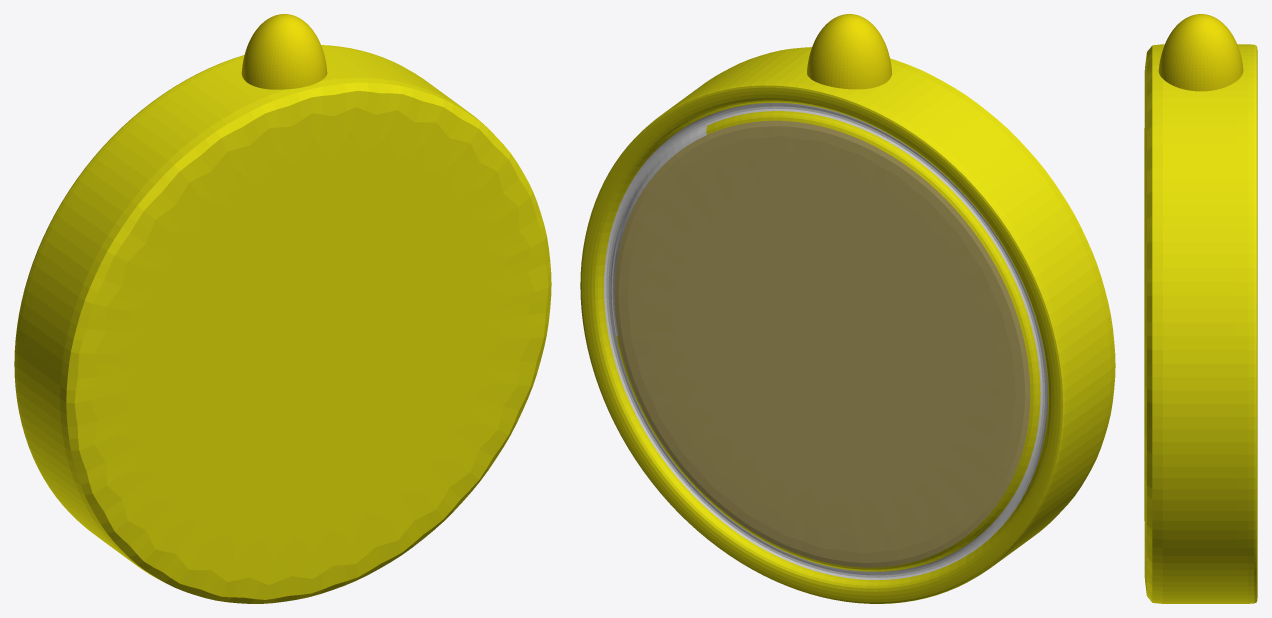
File: playerhuriko 3.fbx
3 renders of one model, left to right at view 1: azimuth 30°, elevation 25°; view 2: azimuth 150°, elevation 25°; view 3: azimuth 270°, elevation 25°, orthographic.
Visible parts, largest first — view 1: 円柱, 球; view 2: 円柱, 球; view 3: 円柱, 球.
Boxes of the visible parts, x1,y1,x2,y2 form: 円柱: [14, 45, 551, 603]; 球: [241, 14, 327, 89]; 円柱: [580, 47, 1115, 603]; 球: [807, 14, 891, 89]; 円柱: [1144, 44, 1257, 603]; 球: [1158, 14, 1243, 91].
Size of the model in its own units: 199 by 220 by 40.16.
